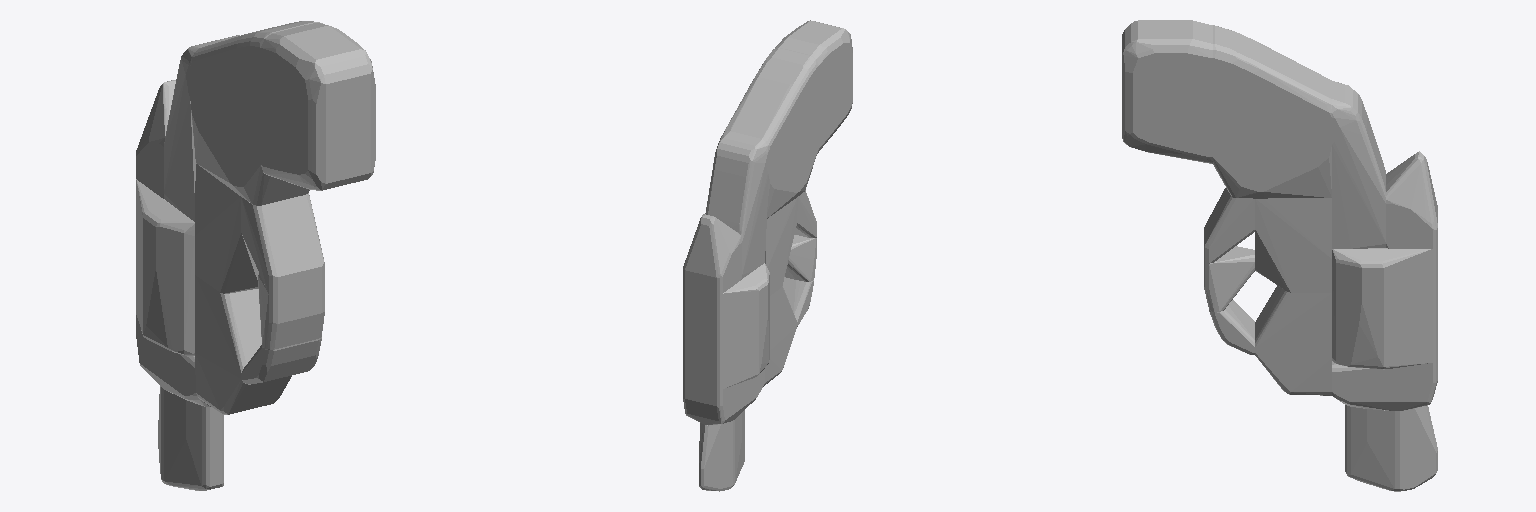
robot.urdf — root:
<?xml version="1.0"?>
<robot name="root">
  <link name="base_link">
    <visual>
      <origin xyz="0 0 0" rpy="0 0 0" />
      <geometry>
        <mesh filename="../meshes/unidex_core_pistol-afa2048d3da423ed3f5d17ee01b81759_006.obj" scale="1.0000E+00 1.0000E+00 1.0000E+00" />
      </geometry>
      <material name="">
        <color rgba="7.50E-01 7.50E-01 7.50E-01 1" />
      </material>
    </visual>
    <collision>
      <origin xyz="0 0 0" rpy="0 0 0" />
      <geometry>
        <mesh filename="../meshes/unidex_core_pistol-afa2048d3da423ed3f5d17ee01b81759_006.obj" scale="1.0000E+00 1.0000E+00 1.0000E+00" />
      </geometry>
    </collision>
  </link>
</robot>

--- Render facts (derived) ---
3 views of the same robot in one strip: view 1: azimuth 30°, elevation 25°; view 2: azimuth 150°, elevation 25°; view 3: azimuth 270°, elevation 25° (orthographic).
Robot: root — 1 links, 0 joints (none); root link base_link; default pose: every joint at zero.
Links seen in each view (by area): view 1: base_link; view 2: base_link; view 3: base_link.
Link boxes in pixels (bbox=[...]): base_link: bbox=[136, 21, 375, 490]; base_link: bbox=[683, 20, 852, 491]; base_link: bbox=[1122, 20, 1437, 491].
Size in the robot's own frame: 0.02 by 0.0644 by 0.1021 metres.
Meshes: 1 distinct files referenced, 1 mesh visuals loaded (1 OBJ).
